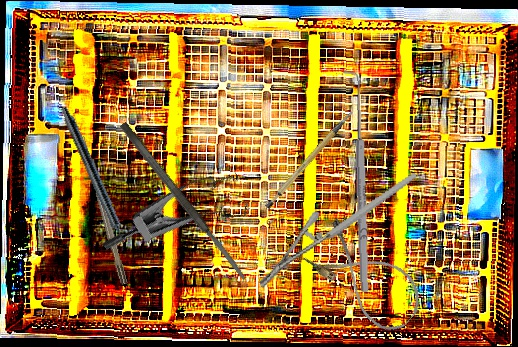Cannula: (300, 215, 432, 340)
Handpiece: (56, 105, 133, 253)
Hook Surgical: (80, 134, 128, 286), (343, 70, 372, 293)
Needle Holder: (241, 172, 435, 289)
Scalpel Handle: (253, 110, 368, 211)
Spatula Surgical: (118, 120, 249, 283)
Speculum: (100, 145, 262, 300)
